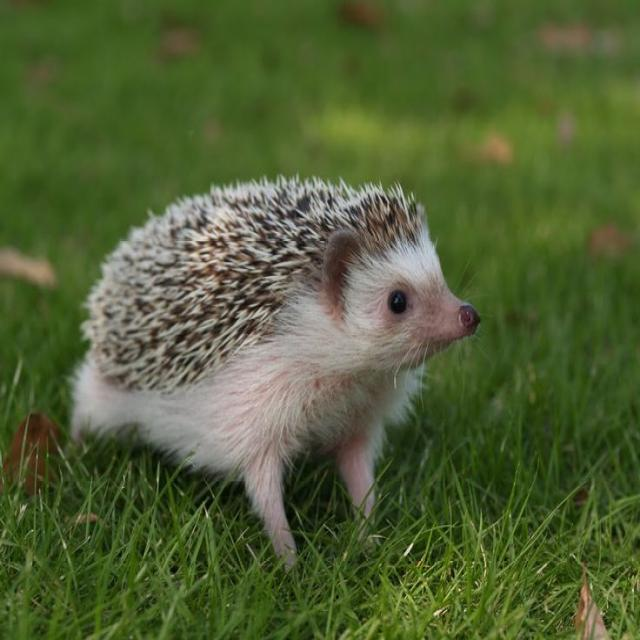Hedgehog: (68, 179, 490, 546)
